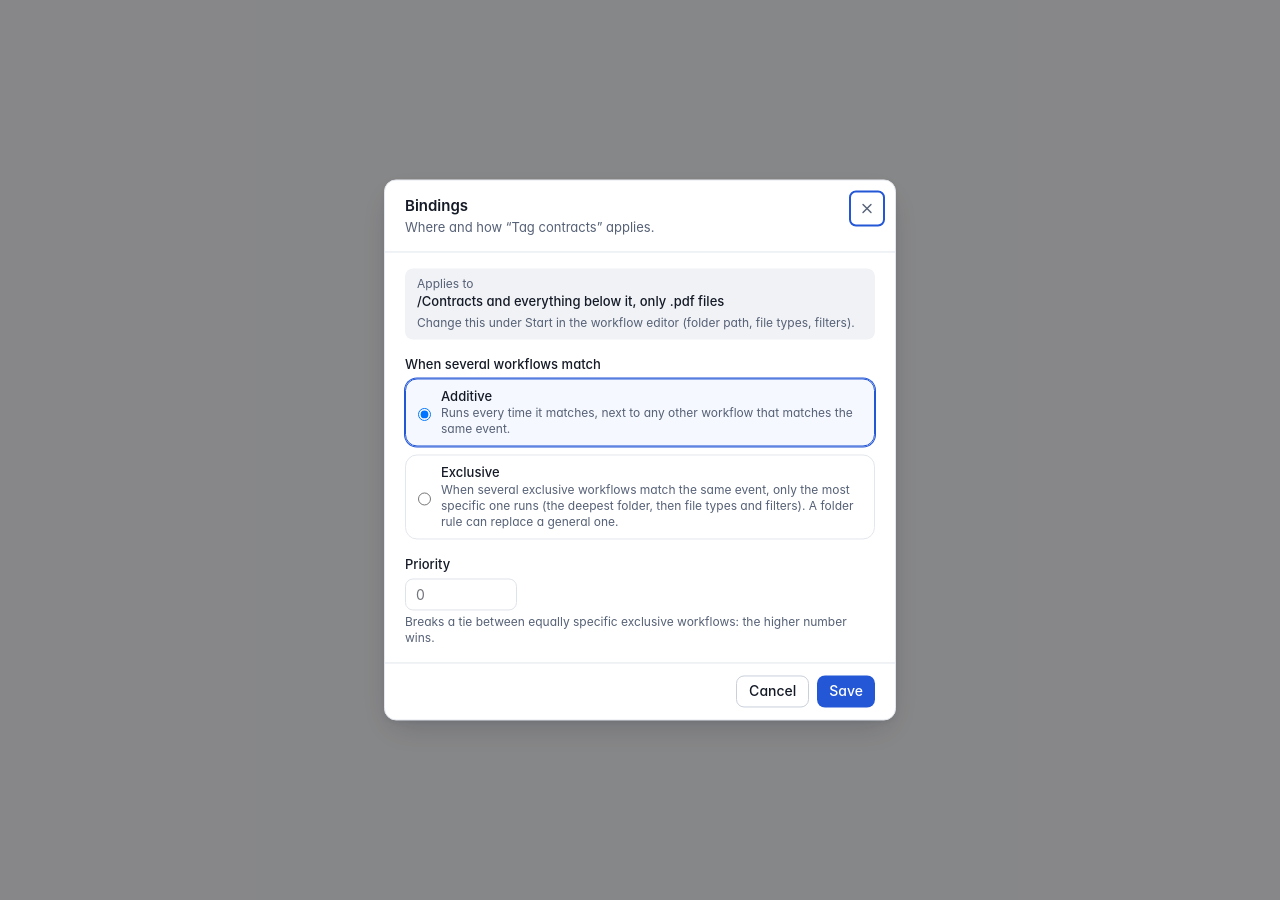
Test: BindingsDialog › refuses a priority outside 0-1000
Click the radio button labelled "Exclusive" at (424, 499), box [418,468,431,531]
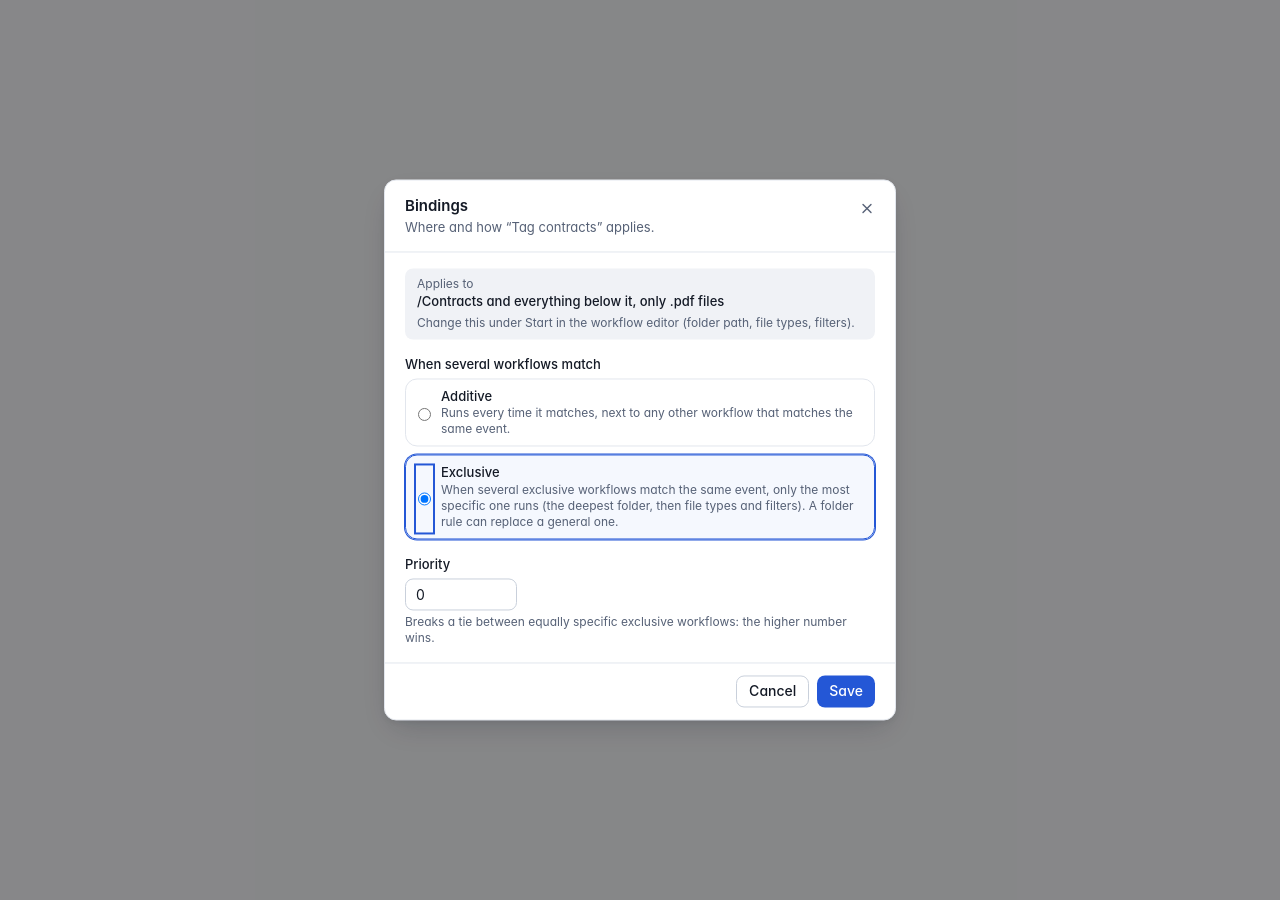
Replace the text in the number field labelled "Priority" with "5000" at (461, 594), box [405,578,517,610]
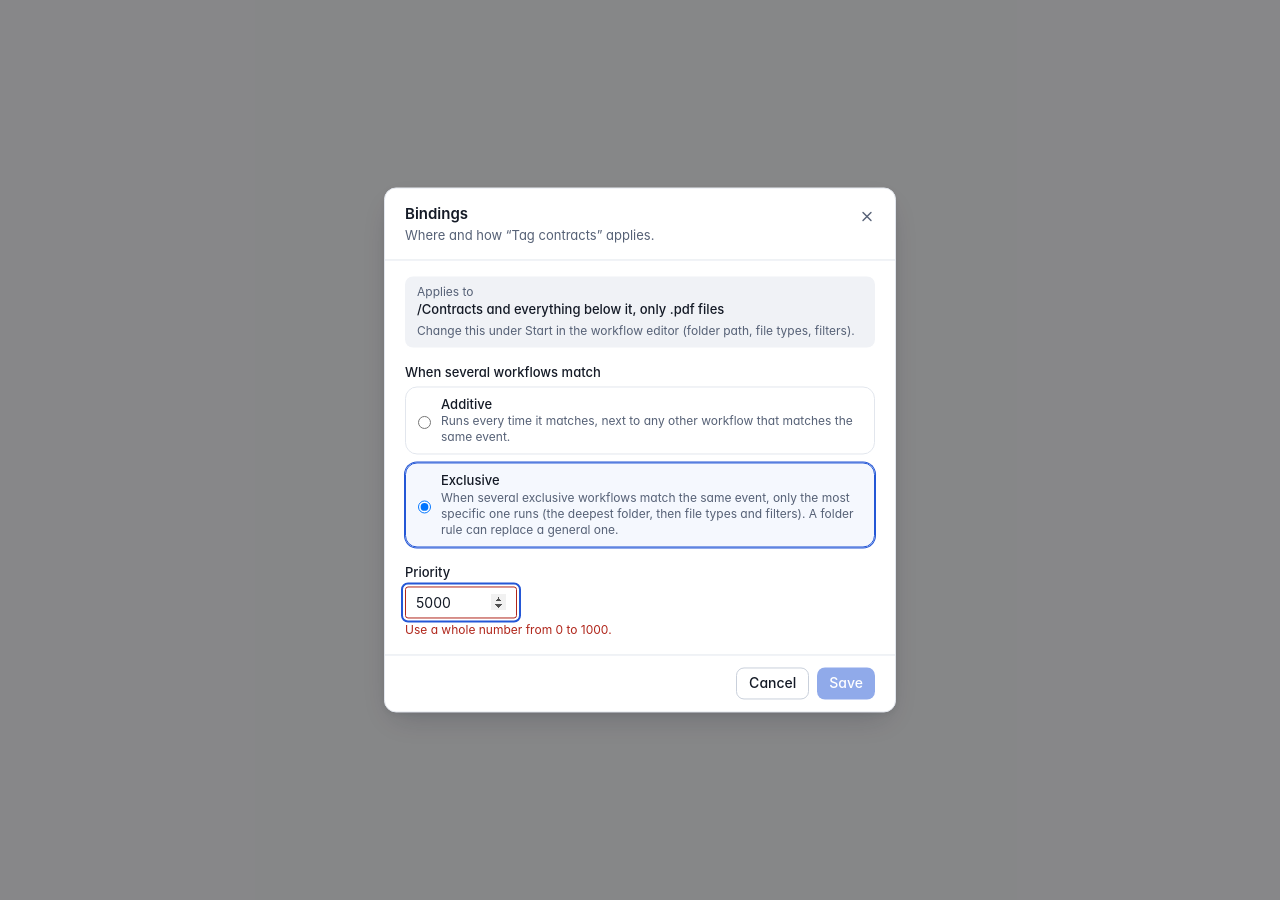
Expected: the text "Use a whole number from 0 to 1000." is shown, [405,622,612,638]
Expected: the button "Save" is disabled, [817,668,875,700]
